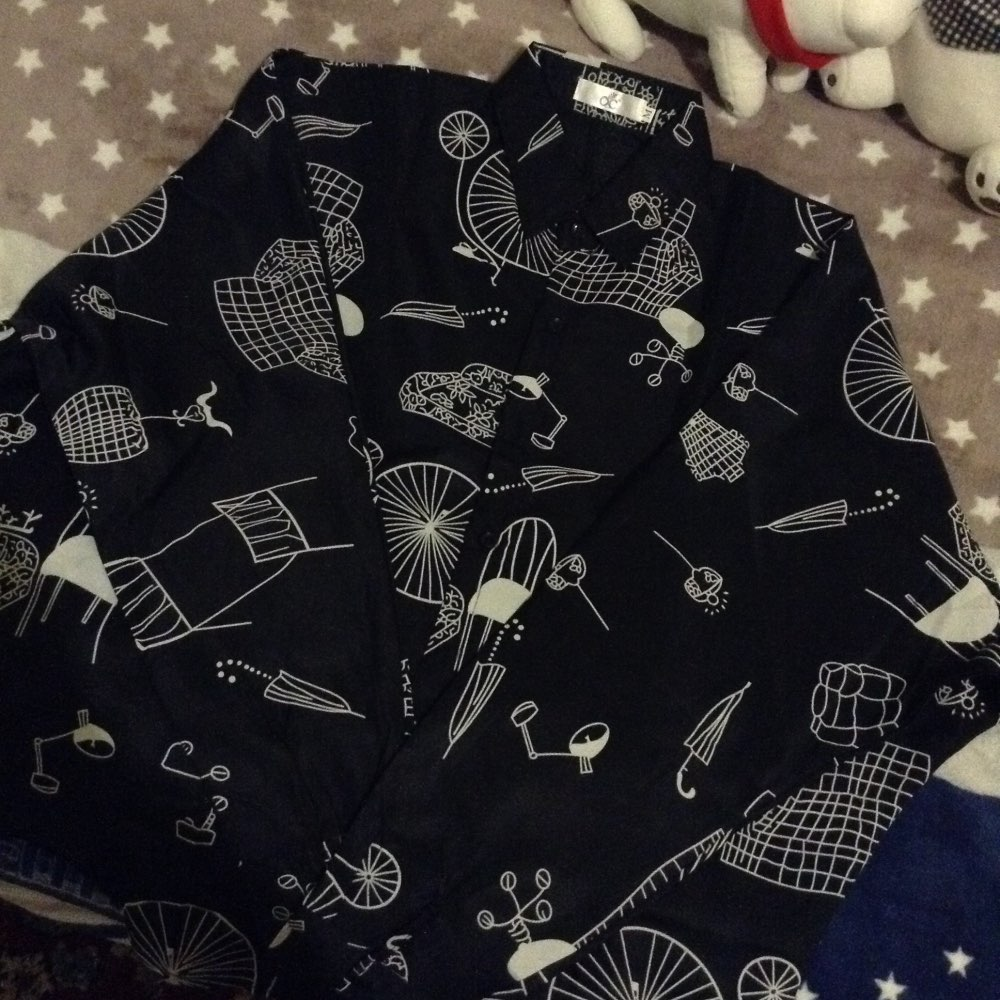shirts: (11, 32, 1000, 999)
